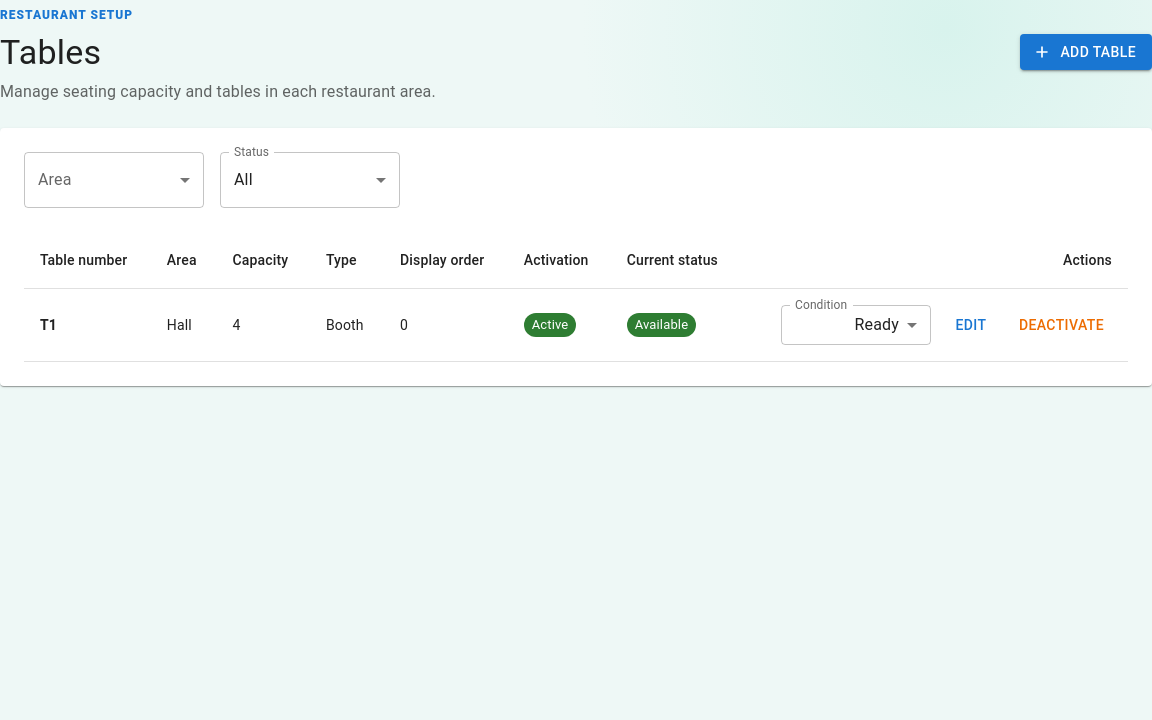
Test: keeps the table and shows the error when deactivation is blocked
Click the button with aria-label "Deactivate T1" at (1061, 325), box [1011, 305, 1112, 345]
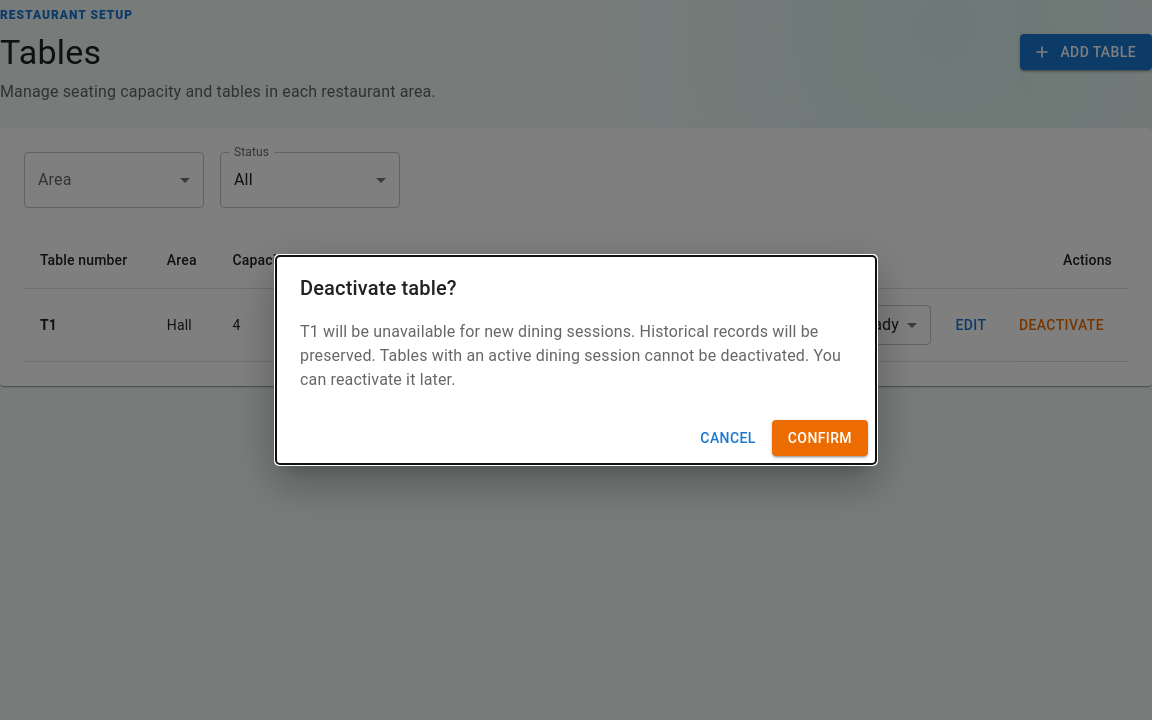
Click the button "Cancel" at (728, 438), box [692, 420, 764, 456]
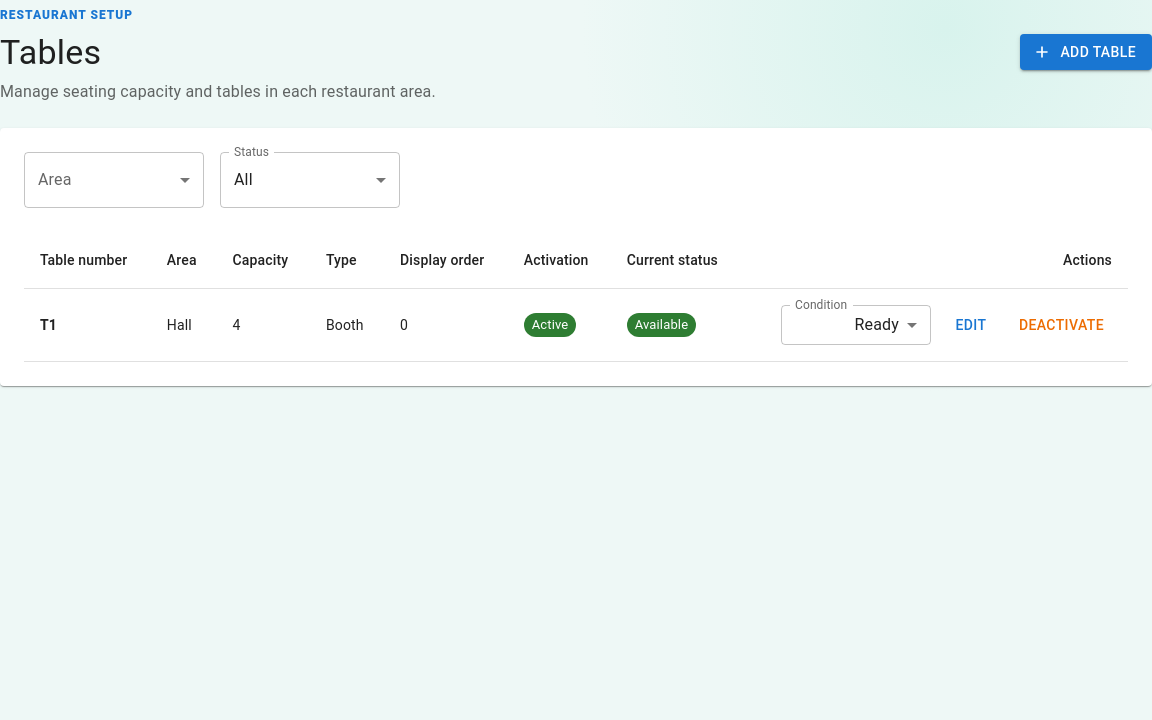
Result: the dialog is gone
Click the button with aria-label "Deactivate T1" at (1061, 325), box [1011, 305, 1112, 345]
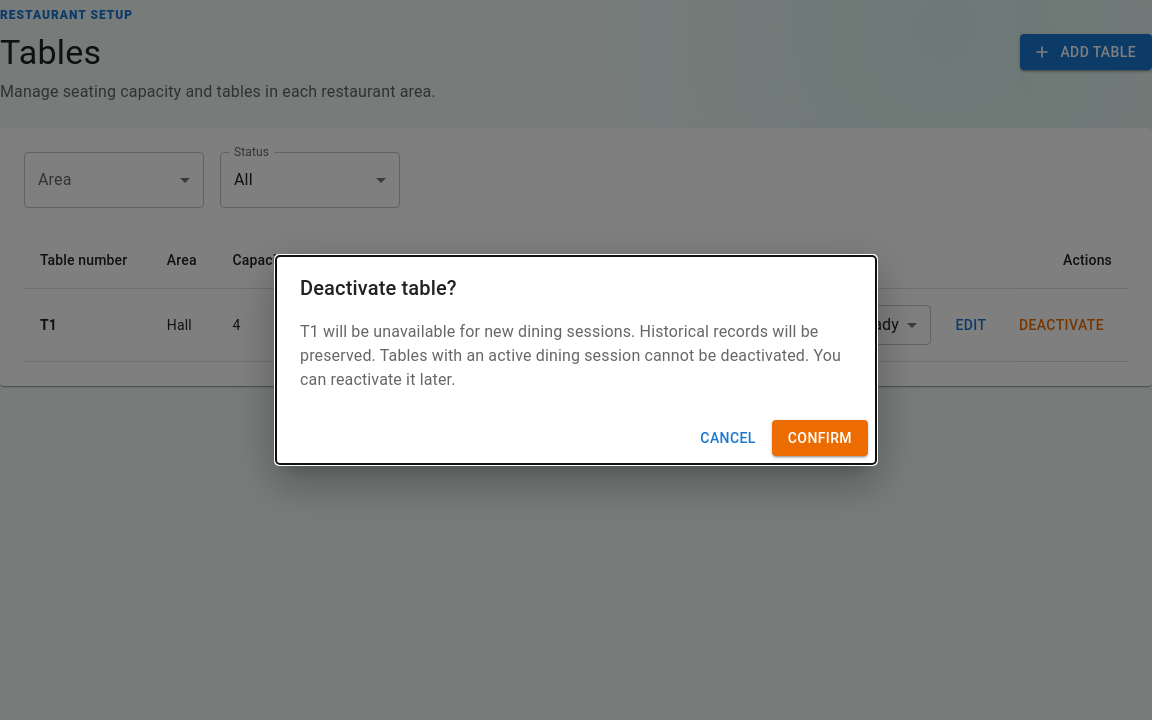
Click the button "Confirm" at (820, 438), box [772, 420, 868, 456]
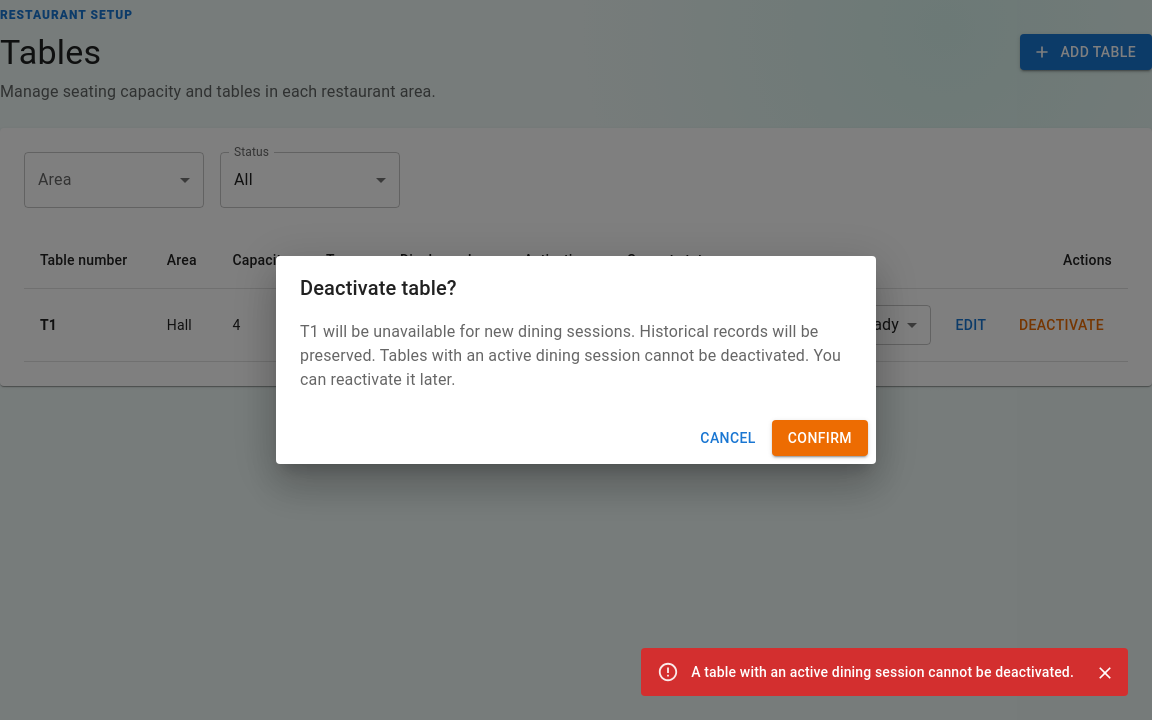
Expected: the text "Active" is shown, [532, 317, 568, 332]
Result: the dialog is shown at [276, 256, 876, 464]
Result: the text "A table with an active dining session cannot be deactivated." is shown at [691, 664, 1074, 680]
